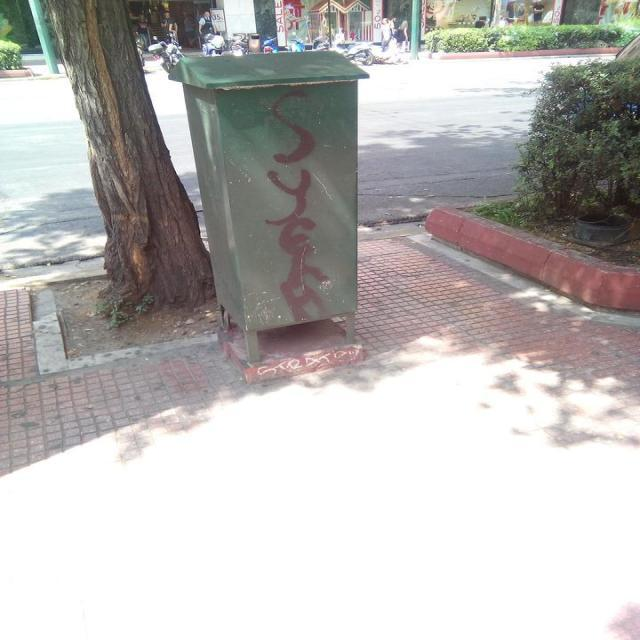nonspitting: (264, 88, 330, 322), (258, 350, 360, 375)
